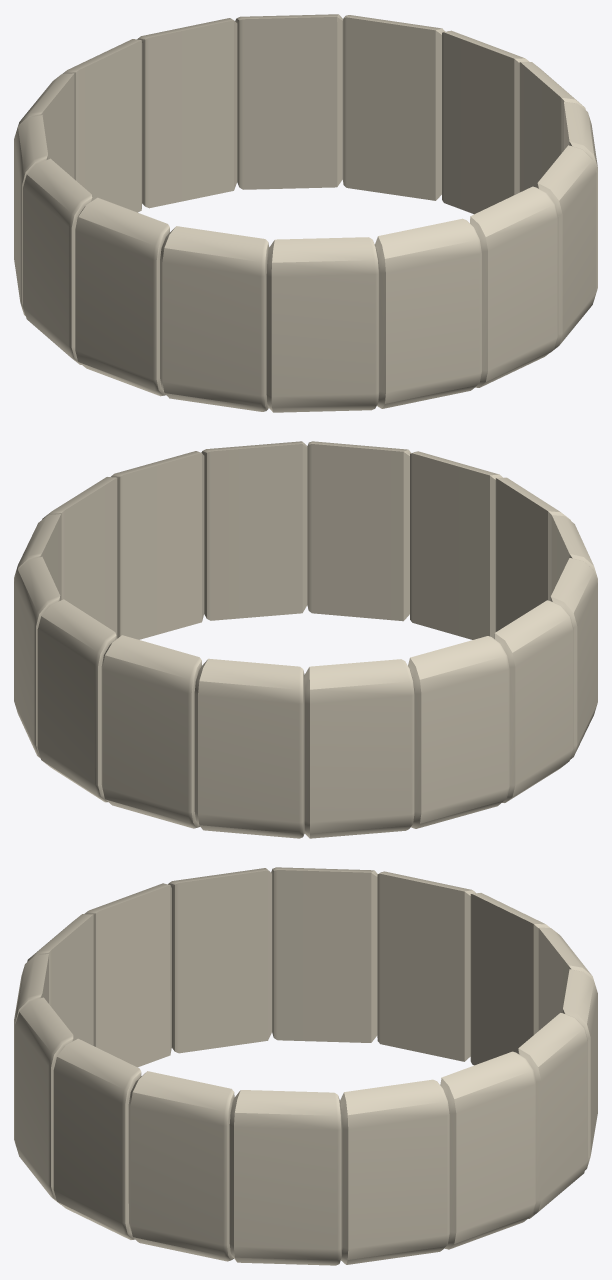
File: DiskatmanVanilla.fbx
The picture shows the model from 3 angles, top to bottom: view 1: azimuth 30°, elevation 25°; view 2: azimuth 150°, elevation 25°; view 3: azimuth 270°, elevation 25°; orthographic projection.
Visible parts, largest first — view 1: pCylinder206, pCylinder205, pCylinder198, pCylinder191, pCylinder197, pCylinder199, pCylinder204, pCylinder192, pCylinder196, pCylinder200, pCylinder203, pCylinder193 (+4 smaller); view 2: pCylinder201, pCylinder200, pCylinder193, pCylinder192, pCylinder202, pCylinder199, pCylinder194, pCylinder191, pCylinder203, pCylinder198, pCylinder195, pCylinder206 (+4 smaller); view 3: pCylinder195, pCylinder196, pCylinder203, pCylinder194, pCylinder204, pCylinder202, pCylinder197, pCylinder193, pCylinder205, pCylinder201, pCylinder198, pCylinder192 (+4 smaller).
Boxes of the visible parts, <box> form: pCylinder206: <box>266,237,379,412</box>; pCylinder205: <box>160,226,269,411</box>; pCylinder198: <box>235,14,342,189</box>; pCylinder191: <box>375,218,481,408</box>; pCylinder197: <box>342,15,445,200</box>; pCylinder199: <box>137,18,237,208</box>; pCylinder204: <box>75,197,169,396</box>; pCylinder192: <box>470,186,558,387</box>; pCylinder196: <box>442,30,529,214</box>; pCylinder200: <box>62,39,142,212</box>; pCylinder203: <box>23,158,92,364</box>; pCylinder193: <box>537,145,596,352</box>; pCylinder201: <box>304,659,414,838</box>; pCylinder200: <box>194,658,304,838</box>; pCylinder193: <box>201,441,307,620</box>; pCylinder192: <box>307,441,410,621</box>; pCylinder202: <box>408,636,509,828</box>; pCylinder199: <box>101,635,201,828</box>; pCylinder194: <box>111,451,204,639</box>; pCylinder191: <box>410,451,503,639</box>; pCylinder203: <box>494,600,573,802</box>; pCylinder198: <box>37,599,116,802</box>; pCylinder195: <box>42,477,117,639</box>; pCylinder206: <box>495,477,570,631</box>; pCylinder195: <box>229,1090,342,1265</box>; pCylinder196: <box>340,1079,449,1264</box>; pCylinder203: <box>271,867,377,1042</box>; pCylinder194: <box>128,1071,234,1261</box>; pCylinder204: <box>168,868,271,1053</box>; pCylinder202: <box>377,871,475,1061</box>; pCylinder197: <box>440,1051,536,1249</box>; pCylinder193: <box>53,1038,141,1239</box>; pCylinder205: <box>84,883,171,1067</box>; pCylinder201: <box>470,893,549,1065</box>; pCylinder198: <box>518,1013,587,1218</box>; pCylinder192: <box>15,997,73,1204</box>.
Size of the model in its own units: 1.98 by 0.638 by 1.98.
